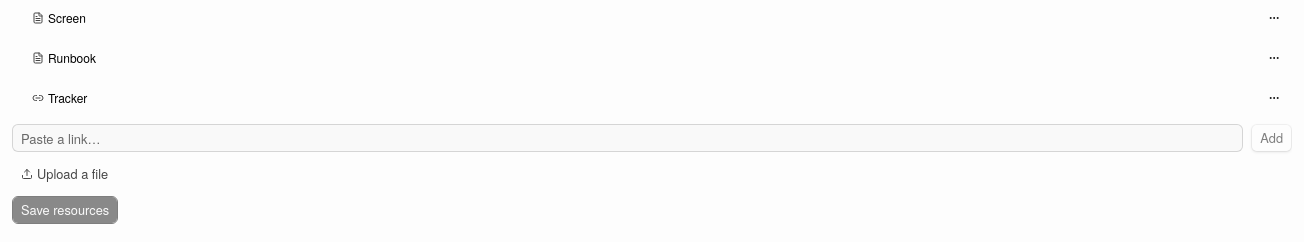
Test: the list is the same list whichever owner draws it › offers a picture as the featured image and a link as a button, and a file as neither
This screenshot has width=1304, height=242.
Click the button named "More for Screen". click: click(1274, 18)
box: x1=1260 y1=4 x2=1288 y2=32
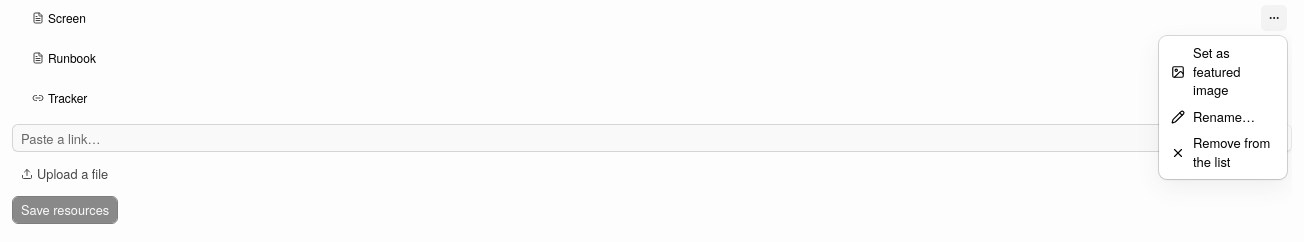
Expected: the text "Set as button" is not shown
Result: the text "Set as featured image" is shown at x1=1171 y1=43 x2=1240 y2=99
Press Escape
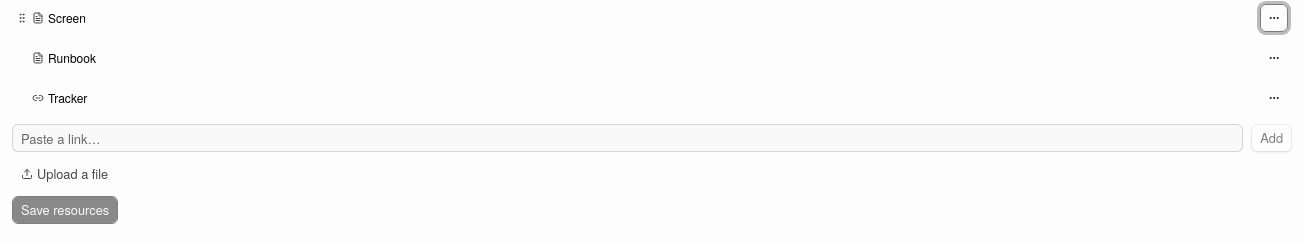
Result: the text "Set as featured image" is gone
Click the button named "More for Runbook". click: click(1274, 58)
box: x1=1260 y1=44 x2=1288 y2=72
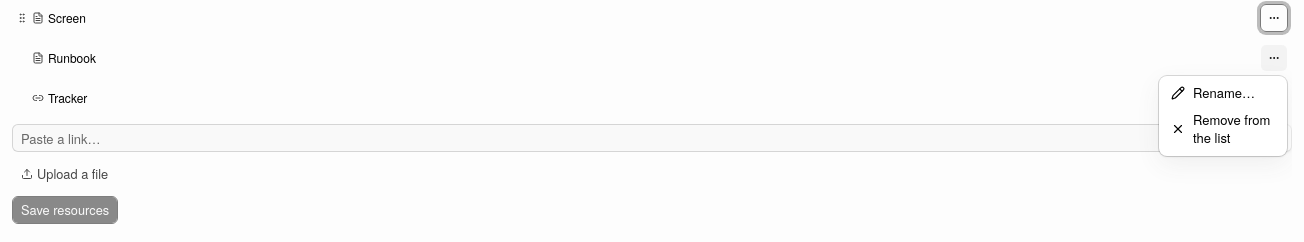
Expected: the text "Set as featured image" is not shown
Result: the text "Rename…" is shown at x1=1171 y1=83 x2=1255 y2=102
Press Escape
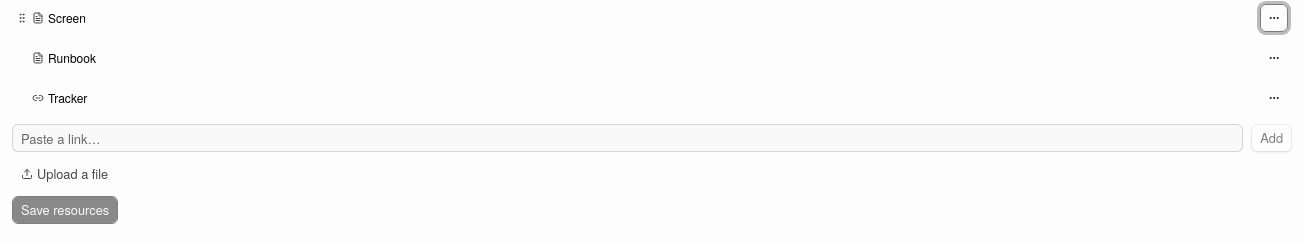
Result: the text "Rename…" is gone
Click the button named "More for Tracker". click: click(1274, 98)
box: x1=1260 y1=84 x2=1288 y2=112
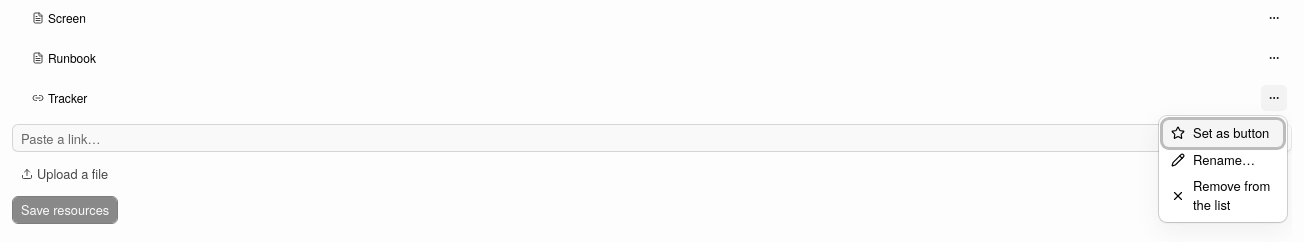
Expected: the text "Set as featured image" is not shown
Result: the text "Set as button" is shown at x1=1163 y1=120 x2=1283 y2=147
